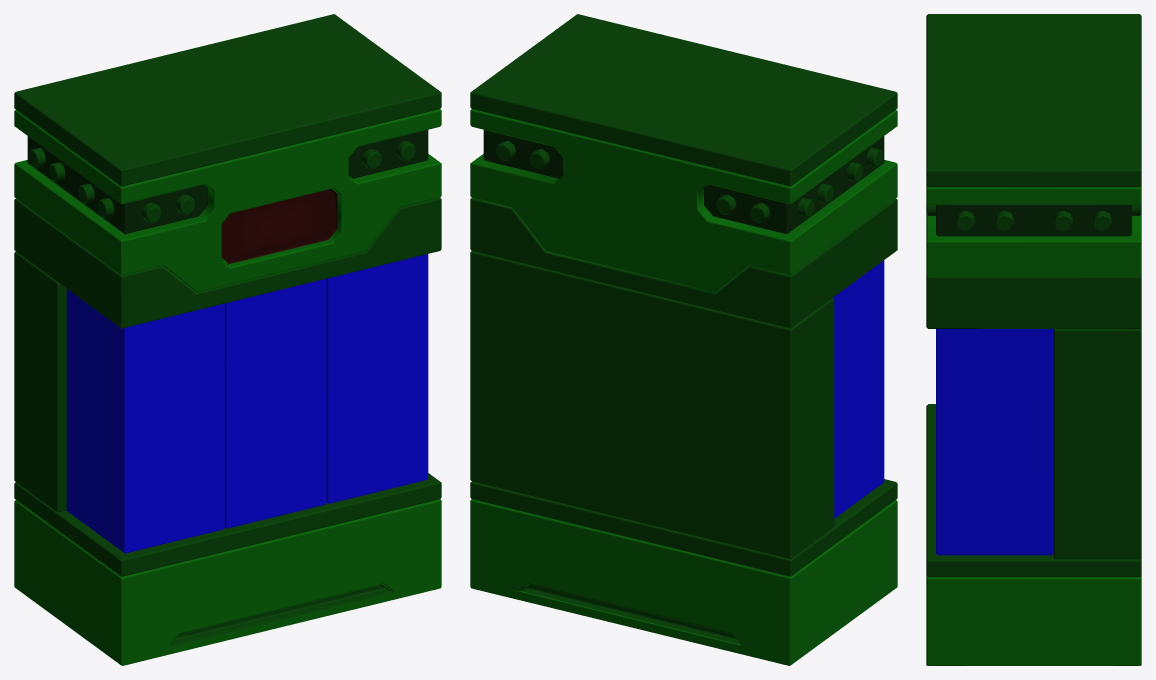
The model's file is Lab_Aq.fbx.
3 renders of one model, left to right at view 1: azimuth 30°, elevation 25°; view 2: azimuth 150°, elevation 25°; view 3: azimuth 270°, elevation 25°, orthographic.
Visible parts, largest first — view 1: Plane.733; view 2: Plane.733; view 3: Plane.733.
Part boxes in pixels (box(x1,y1,x2,y2)): Plane.733: box(14, 14, 441, 665); Plane.733: box(470, 14, 897, 665); Plane.733: box(926, 14, 1141, 665).
Bounding box in the file's own units: 1.9 × 2.8 × 1.1.
